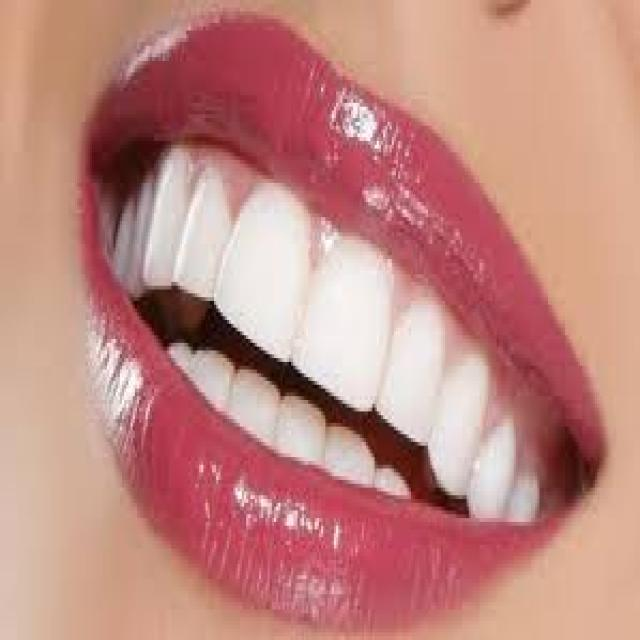tooth: (312, 236, 379, 396), (238, 202, 302, 335), (396, 305, 428, 434), (195, 176, 225, 274), (326, 419, 374, 480), (283, 385, 321, 461), (445, 362, 471, 472), (233, 370, 276, 434), (154, 156, 176, 271), (197, 346, 229, 404), (480, 438, 505, 511), (135, 179, 148, 282), (114, 194, 128, 282), (514, 472, 535, 518), (379, 465, 407, 491), (169, 335, 191, 366)
